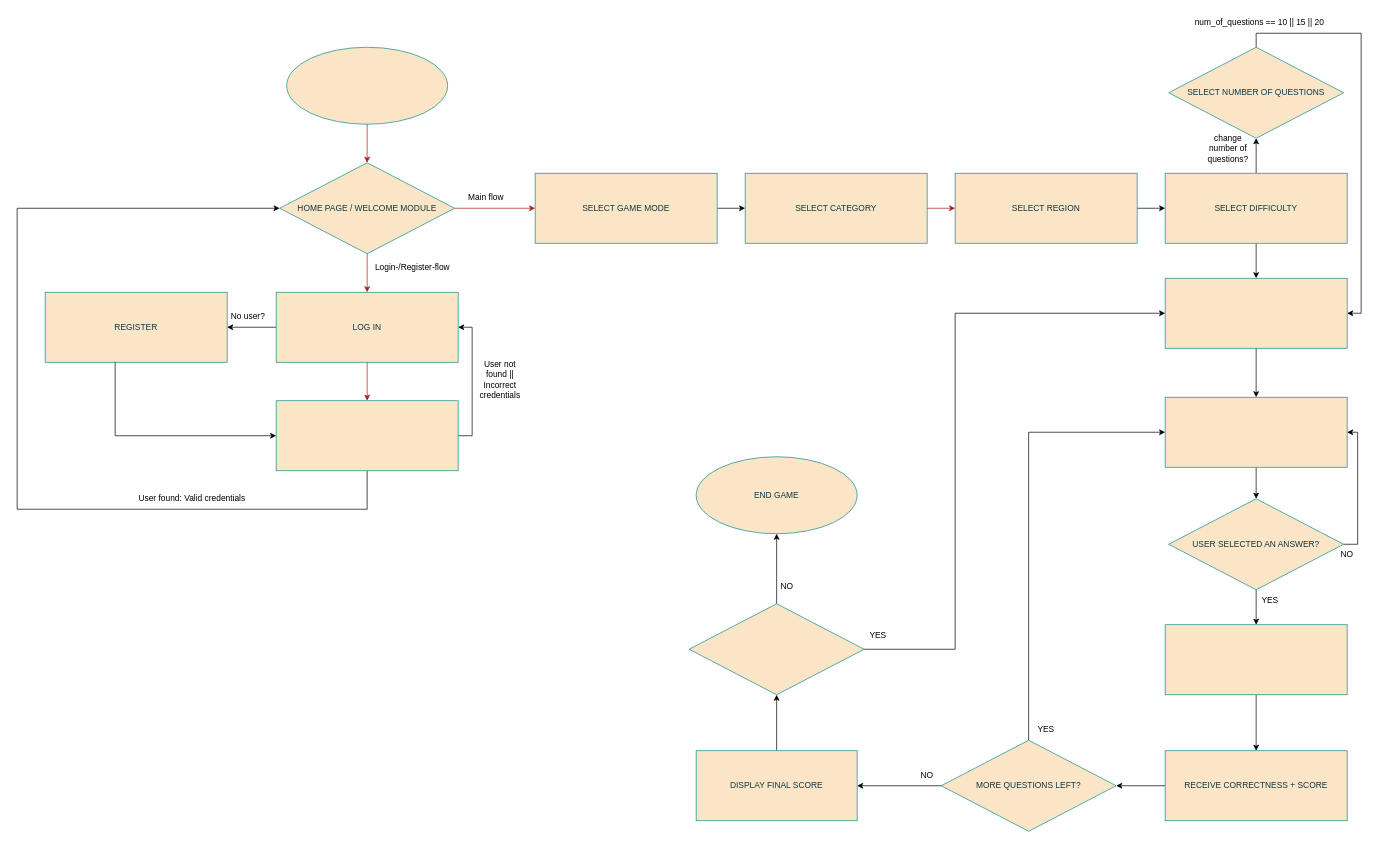
Some shapes in this 1380 by 844 pixel diagram are drawn without their labels. The box of each missing label's shape, as (x1, y1, x2, y2) in pixels:
CREATE GAME SESSION: (1164, 278, 1347, 348)
DISPLAY QUESTION (n / total): (1164, 397, 1347, 467)
PLAY AGAIN?: (688, 603, 864, 695)
SEND ANSWER TO BACKEND POST /api/sessions/:id/answer: (1164, 624, 1347, 695)
USER INPUTS USERNAME + PASSWORD: (275, 400, 458, 471)
USER OPEN BROWSER: (286, 47, 448, 124)
